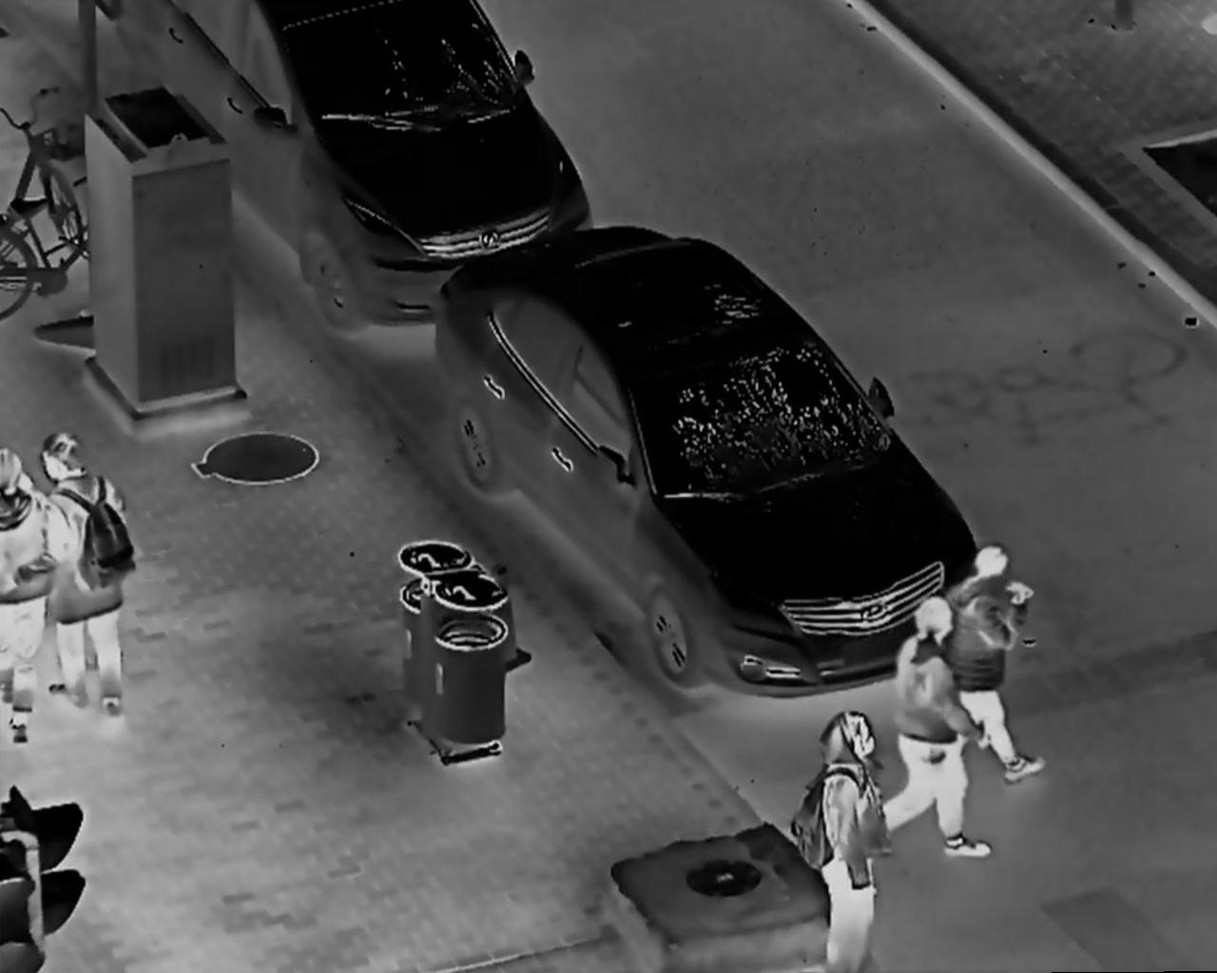person: (29, 426, 144, 727), (788, 711, 903, 973), (886, 591, 992, 858), (949, 543, 1052, 787)
